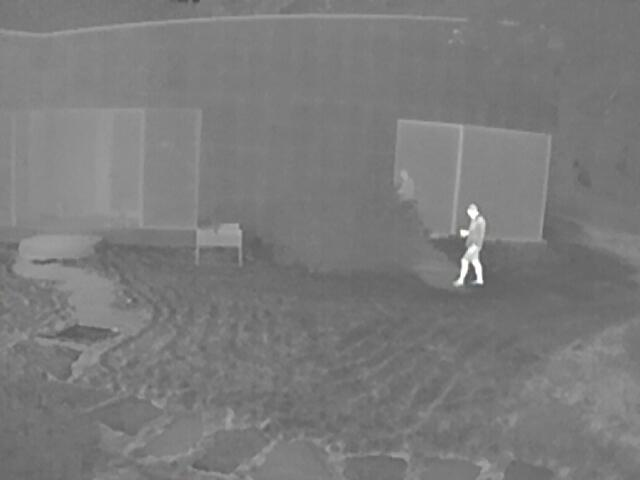person: (454, 204, 484, 288), (394, 161, 418, 208)
